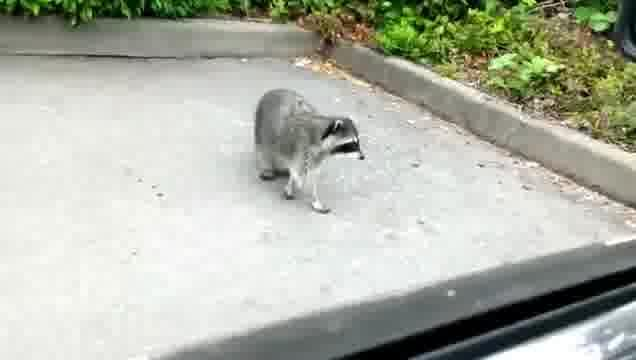raccoon: (250, 85, 369, 215)
